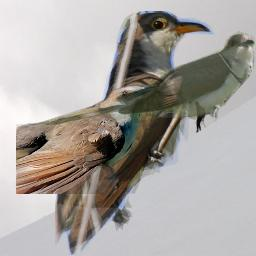Cuckoo: (55, 11, 249, 255), (38, 31, 255, 130), (16, 85, 158, 194)
